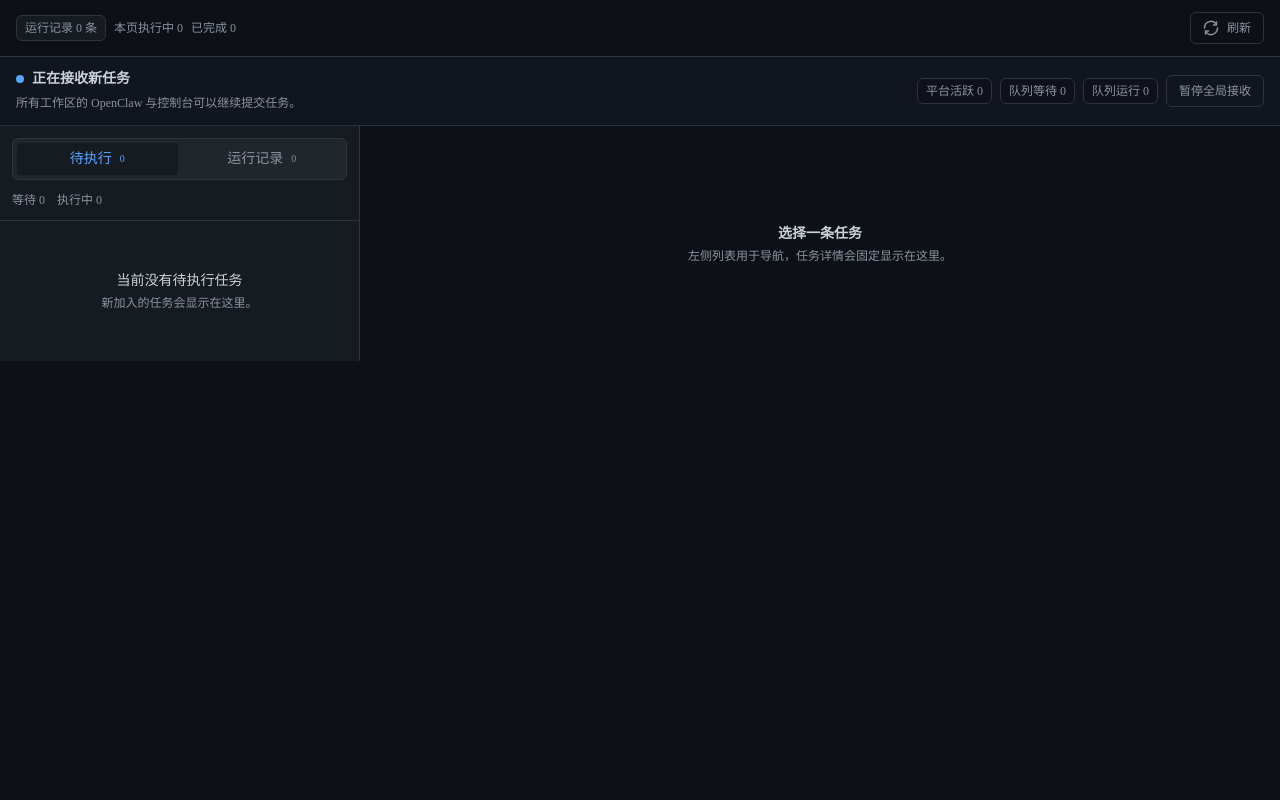
Test: TaskRunsPanel › lets an administrator pause new intake with an audited reason
Click the button "暂停全局接收" at (1215, 91), box top-left (1166, 75), bottom-right (1264, 107)
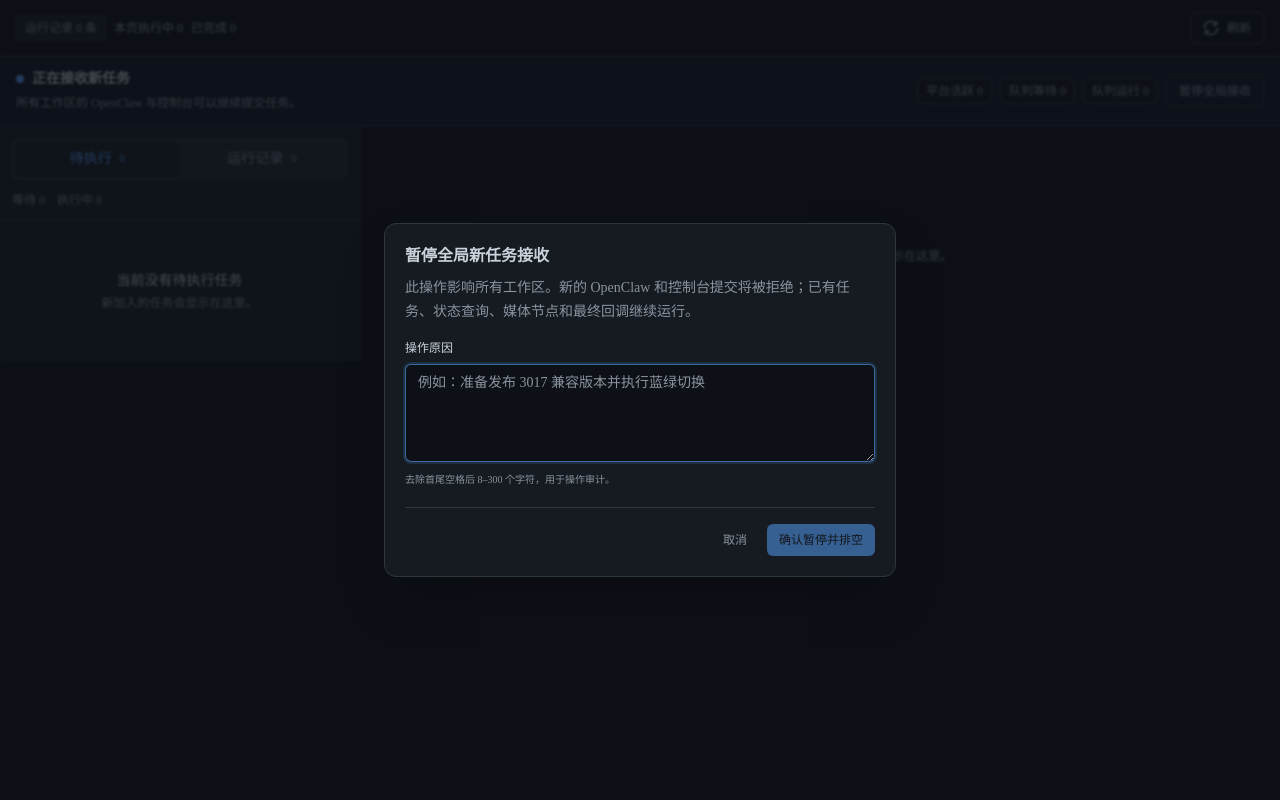
Type "准备发布兼容版本并进行蓝绿切换" into the text box labelled "操作原因" at (640, 413), box top-left (405, 364), bottom-right (875, 462)
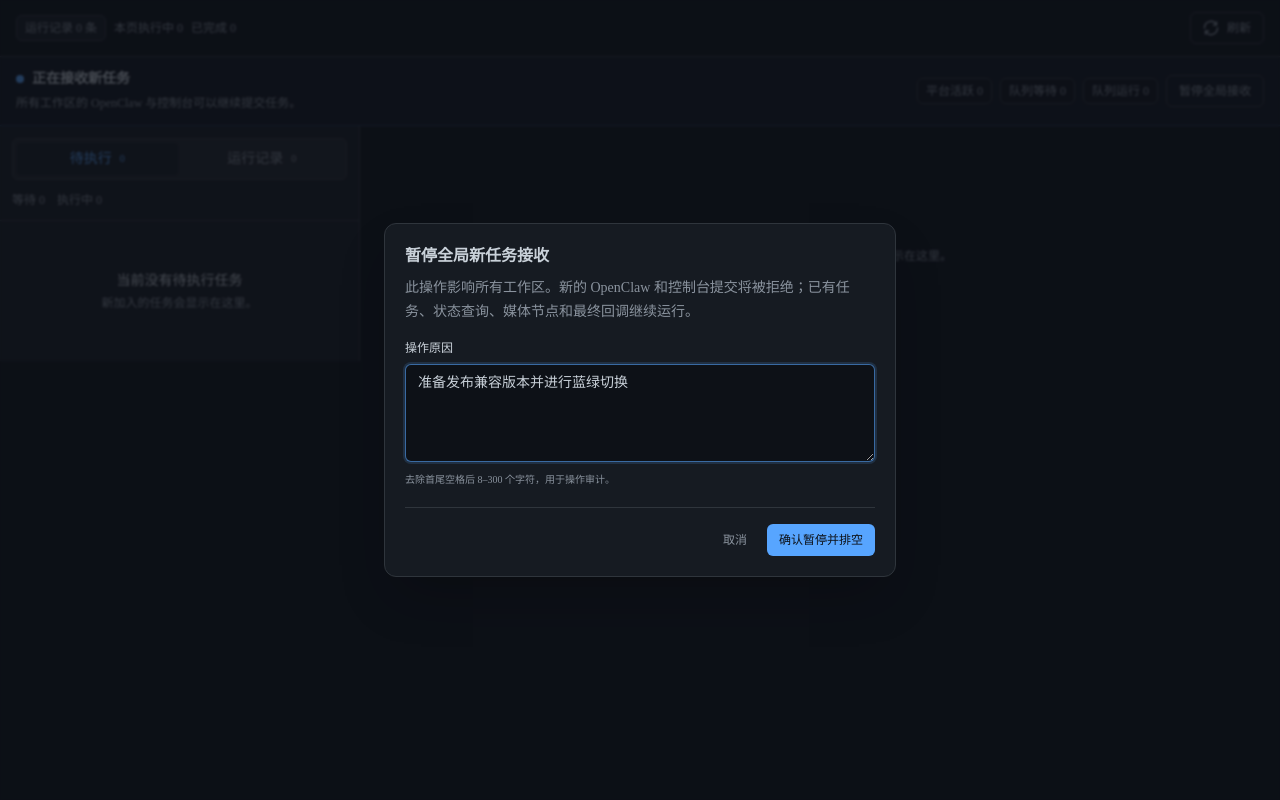
Click the button "确认暂停并排空" at (821, 540), box top-left (767, 524), bottom-right (875, 556)
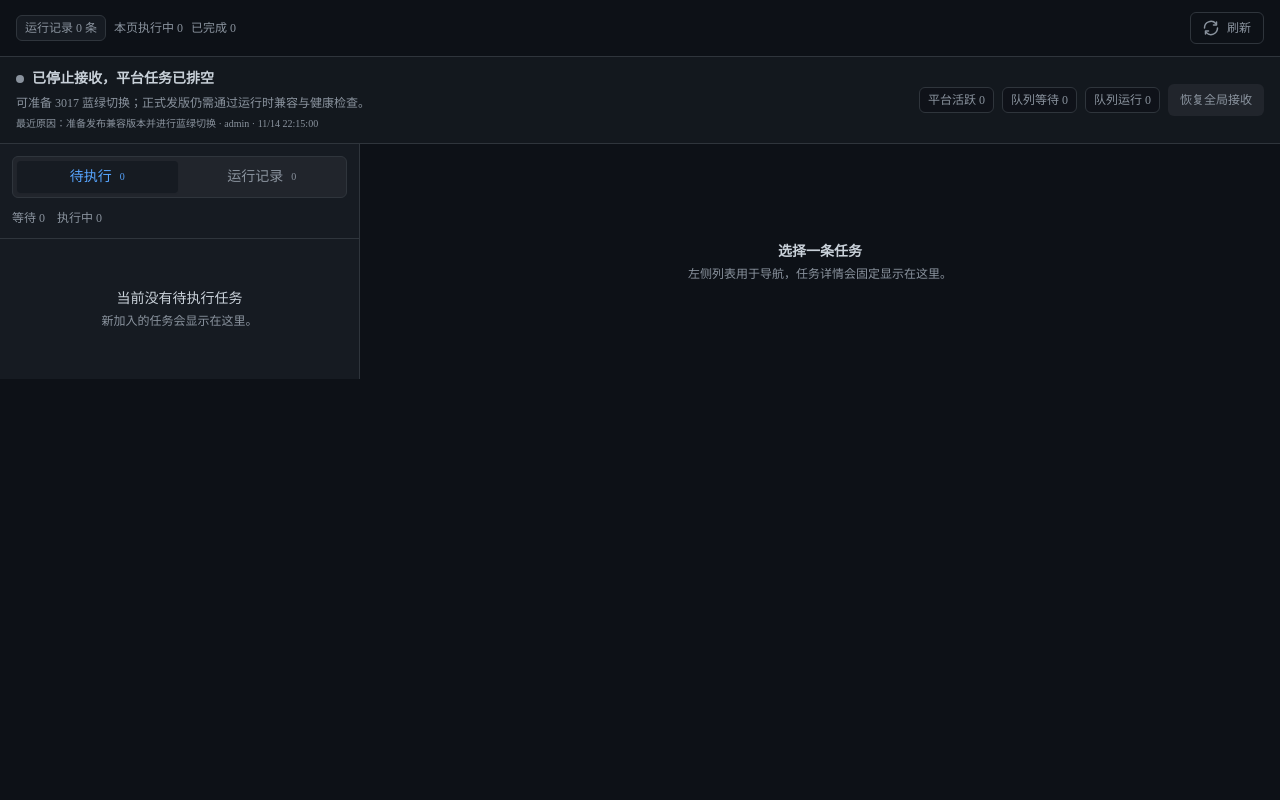
Check: the heading "已停止接收，平台任务已排空" is shown, box top-left (32, 69), bottom-right (214, 89)
